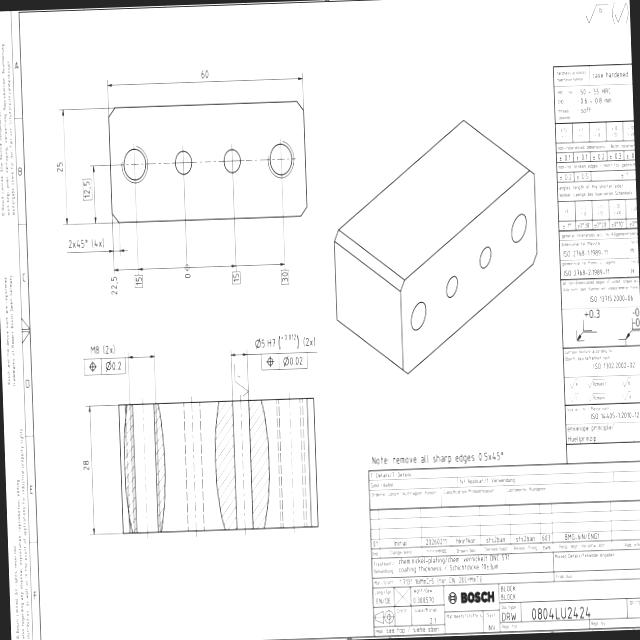dimension: (252, 330, 316, 352), (66, 235, 106, 250), (88, 342, 117, 356), (81, 176, 94, 202), (108, 273, 119, 296), (279, 266, 290, 286), (132, 272, 144, 290), (230, 269, 241, 286), (54, 159, 64, 174), (199, 67, 210, 80), (81, 458, 90, 472), (183, 272, 191, 278)
